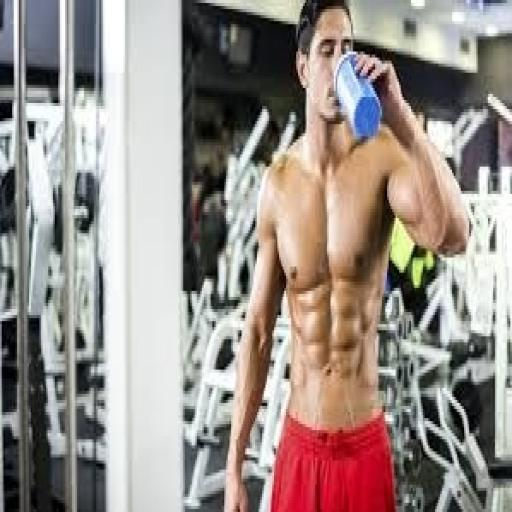drinking: (332, 48, 380, 142)
